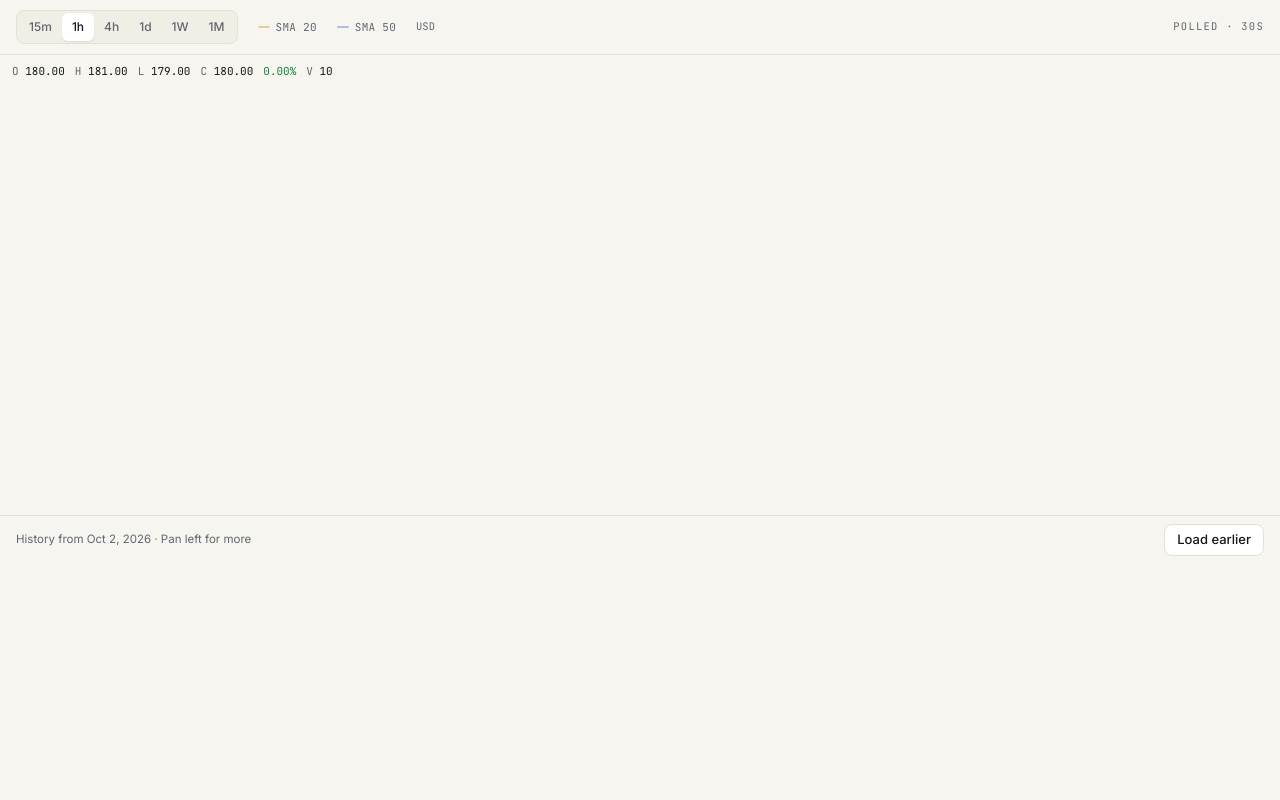
Test case: older chart history › keeps the chart usable on a history failure, retries explicitly, and stops at the feed boundary
What coordinates should you click on to do the following:
click the button "Load earlier"
I would click on:
 (1214, 540)
Its box is [1164,524,1264,556].
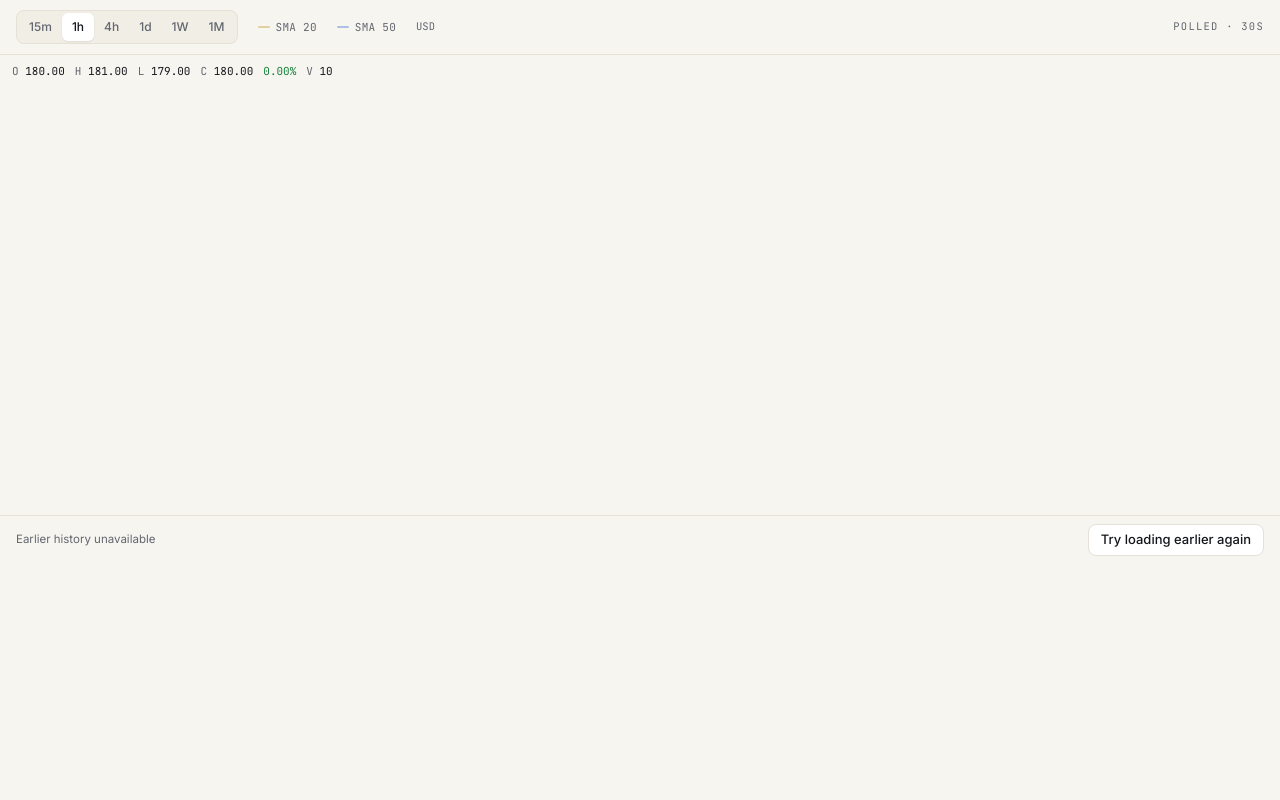
Check: the text "Polled · 30s" is shown, box [1173,19,1264,35]
What coordinates should you click on to do the following:
click the button "Try loading earlier again"
I would click on:
 (1176, 540)
Its box is [1088,524,1264,556].
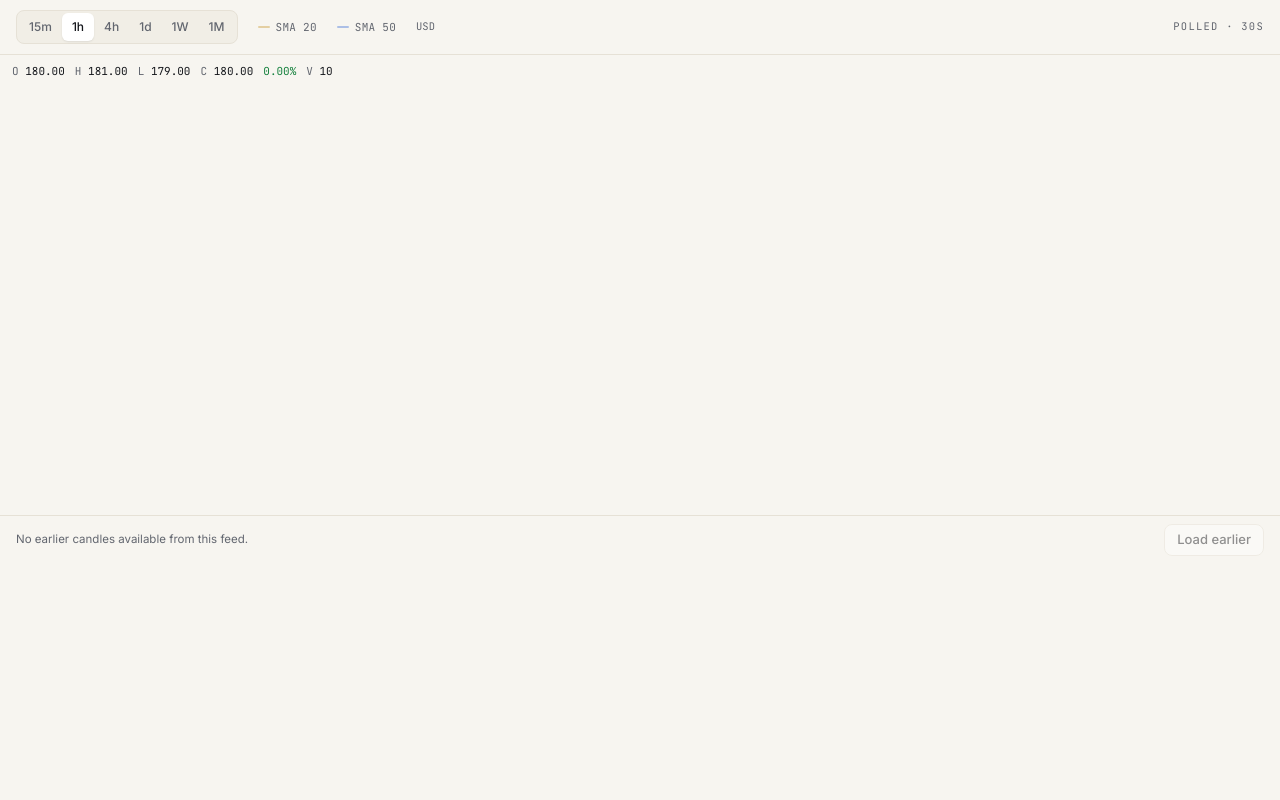
Check: the text "No earlier candles available from this feed." is shown, box [16,531,248,549]
Check: the button "Load earlier" is disabled, box [1164,524,1264,556]
